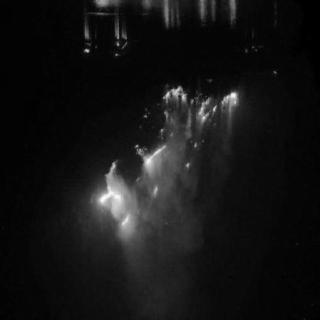Fire: (94, 160, 134, 232)
